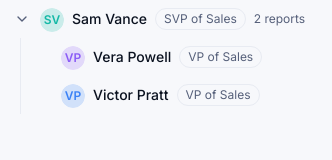
Test: OrgChartTree › rails, avatars, role chips, and report counts › collapses a branch when the chevron is clicked
Expected: the text "Victor Pratt" is shown, [93,85,168,105]
What coordinates should you click on to do the following:
click the button named "Collapse Sam Vance"
I would click on:
 (22, 19)
Its box is [12,9,32,29].
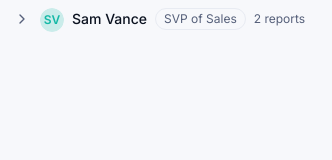
Now the button "Victor Pratt" is gone
